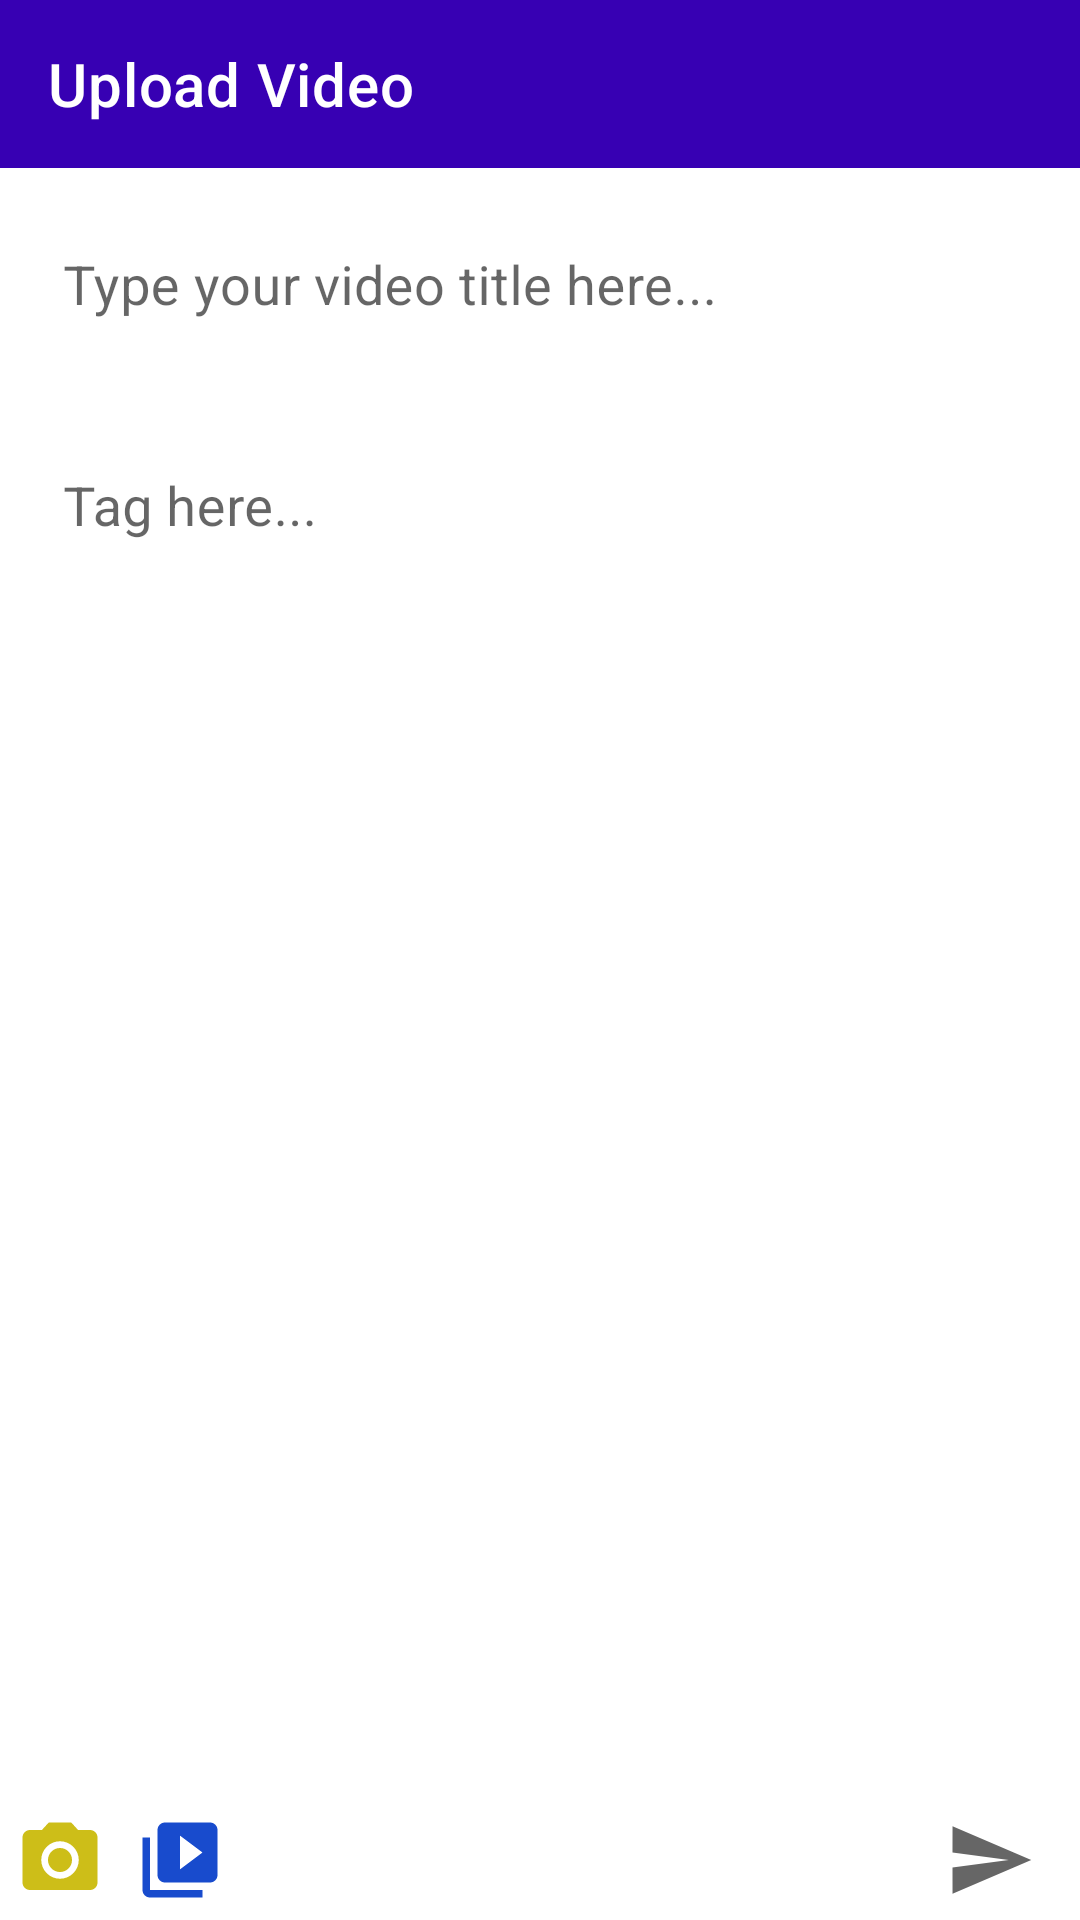

Screen size 1080*1920. Icon name, then its center in pixels as point (x, y):
photo camera: point (60, 1856)
send: point (991, 1860)
video library: point (180, 1860)
